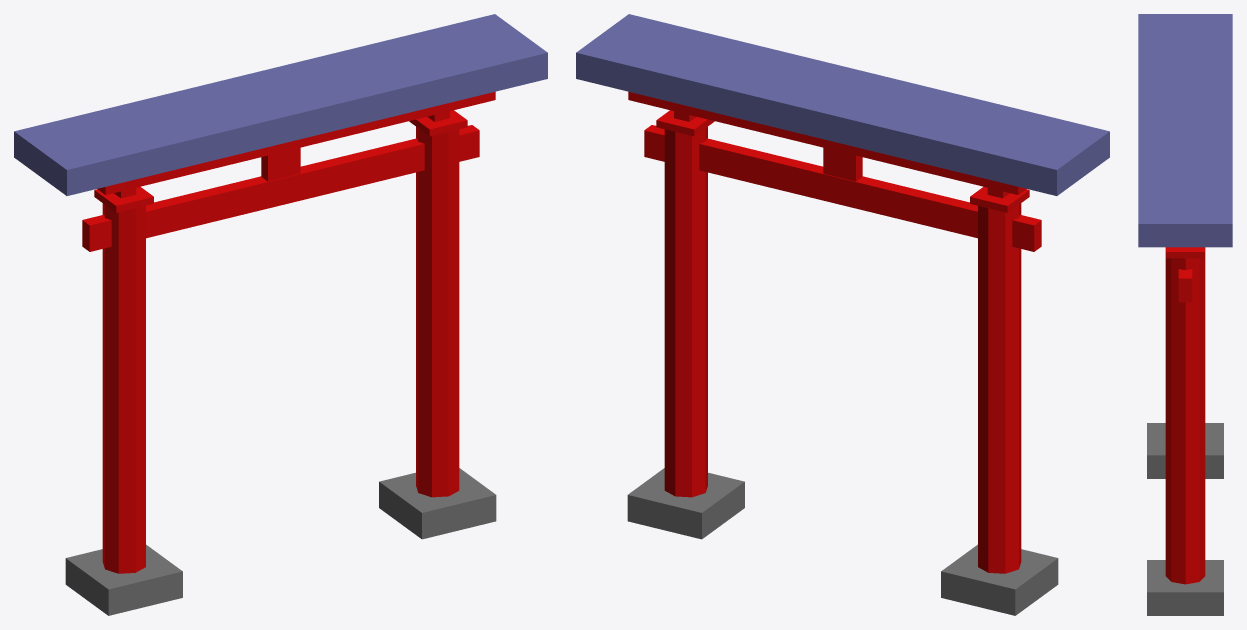
The model's file is Garden_door_02.fbx.
3 renders of one model, left to right at view 1: azimuth 30°, elevation 25°; view 2: azimuth 150°, elevation 25°; view 3: azimuth 270°, elevation 25°, orthographic. The views are drawn at different scales.
Parts seen in each view (by area): view 1: Garden_door_02; view 2: Garden_door_02; view 3: Garden_door_02.
Boxes of the visible parts, <box> form: Garden_door_02: <box>14,14,547,615</box>; Garden_door_02: <box>576,14,1109,615</box>; Garden_door_02: <box>1138,14,1232,615</box>.
Bounding box in the file's own units: 67.61 × 61.92 × 12.88.
